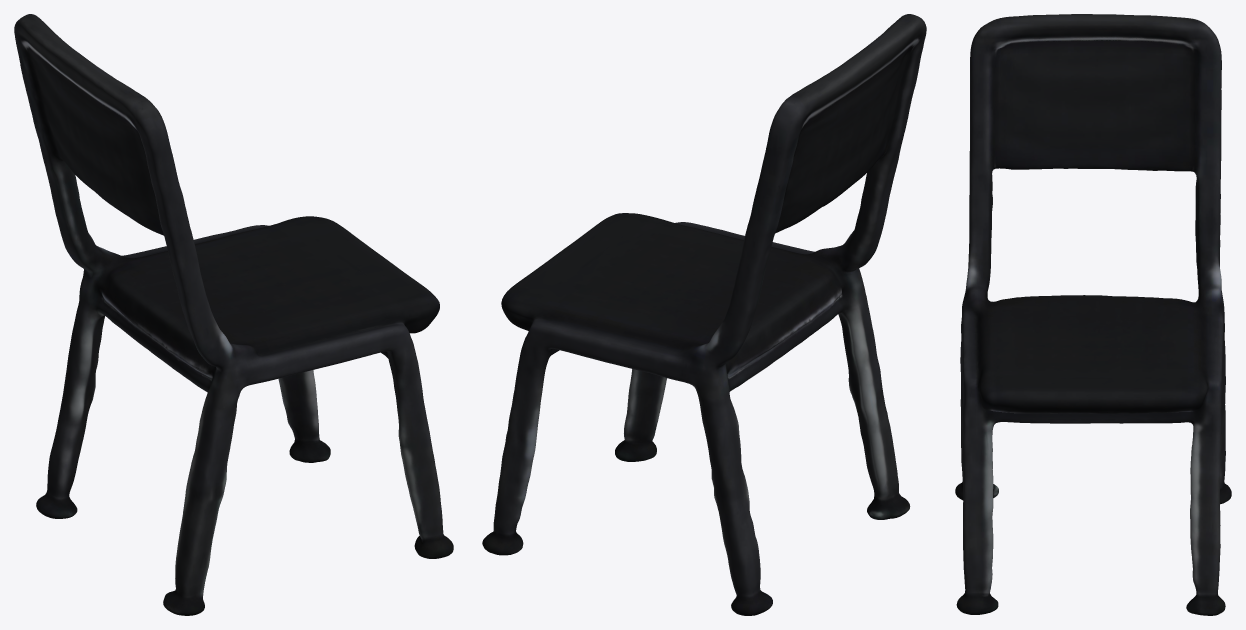
Rendered from 25c724eb17e4_chair__3d_asset_0_g.fbx.
The picture shows the model from 3 angles, left to right: view 1: azimuth 30°, elevation 25°; view 2: azimuth 150°, elevation 25°; view 3: azimuth 270°, elevation 25°; orthographic projection. The views are drawn at different scales.
Visible parts, largest first — view 1: high_poly; view 2: high_poly; view 3: high_poly.
Part boxes in pixels (x1,y1,x2,y2): high_poly: (14, 14, 453, 615); high_poly: (482, 14, 926, 615); high_poly: (955, 14, 1231, 615).
Size of the model in its own units: 64.95 by 100 by 53.73.
